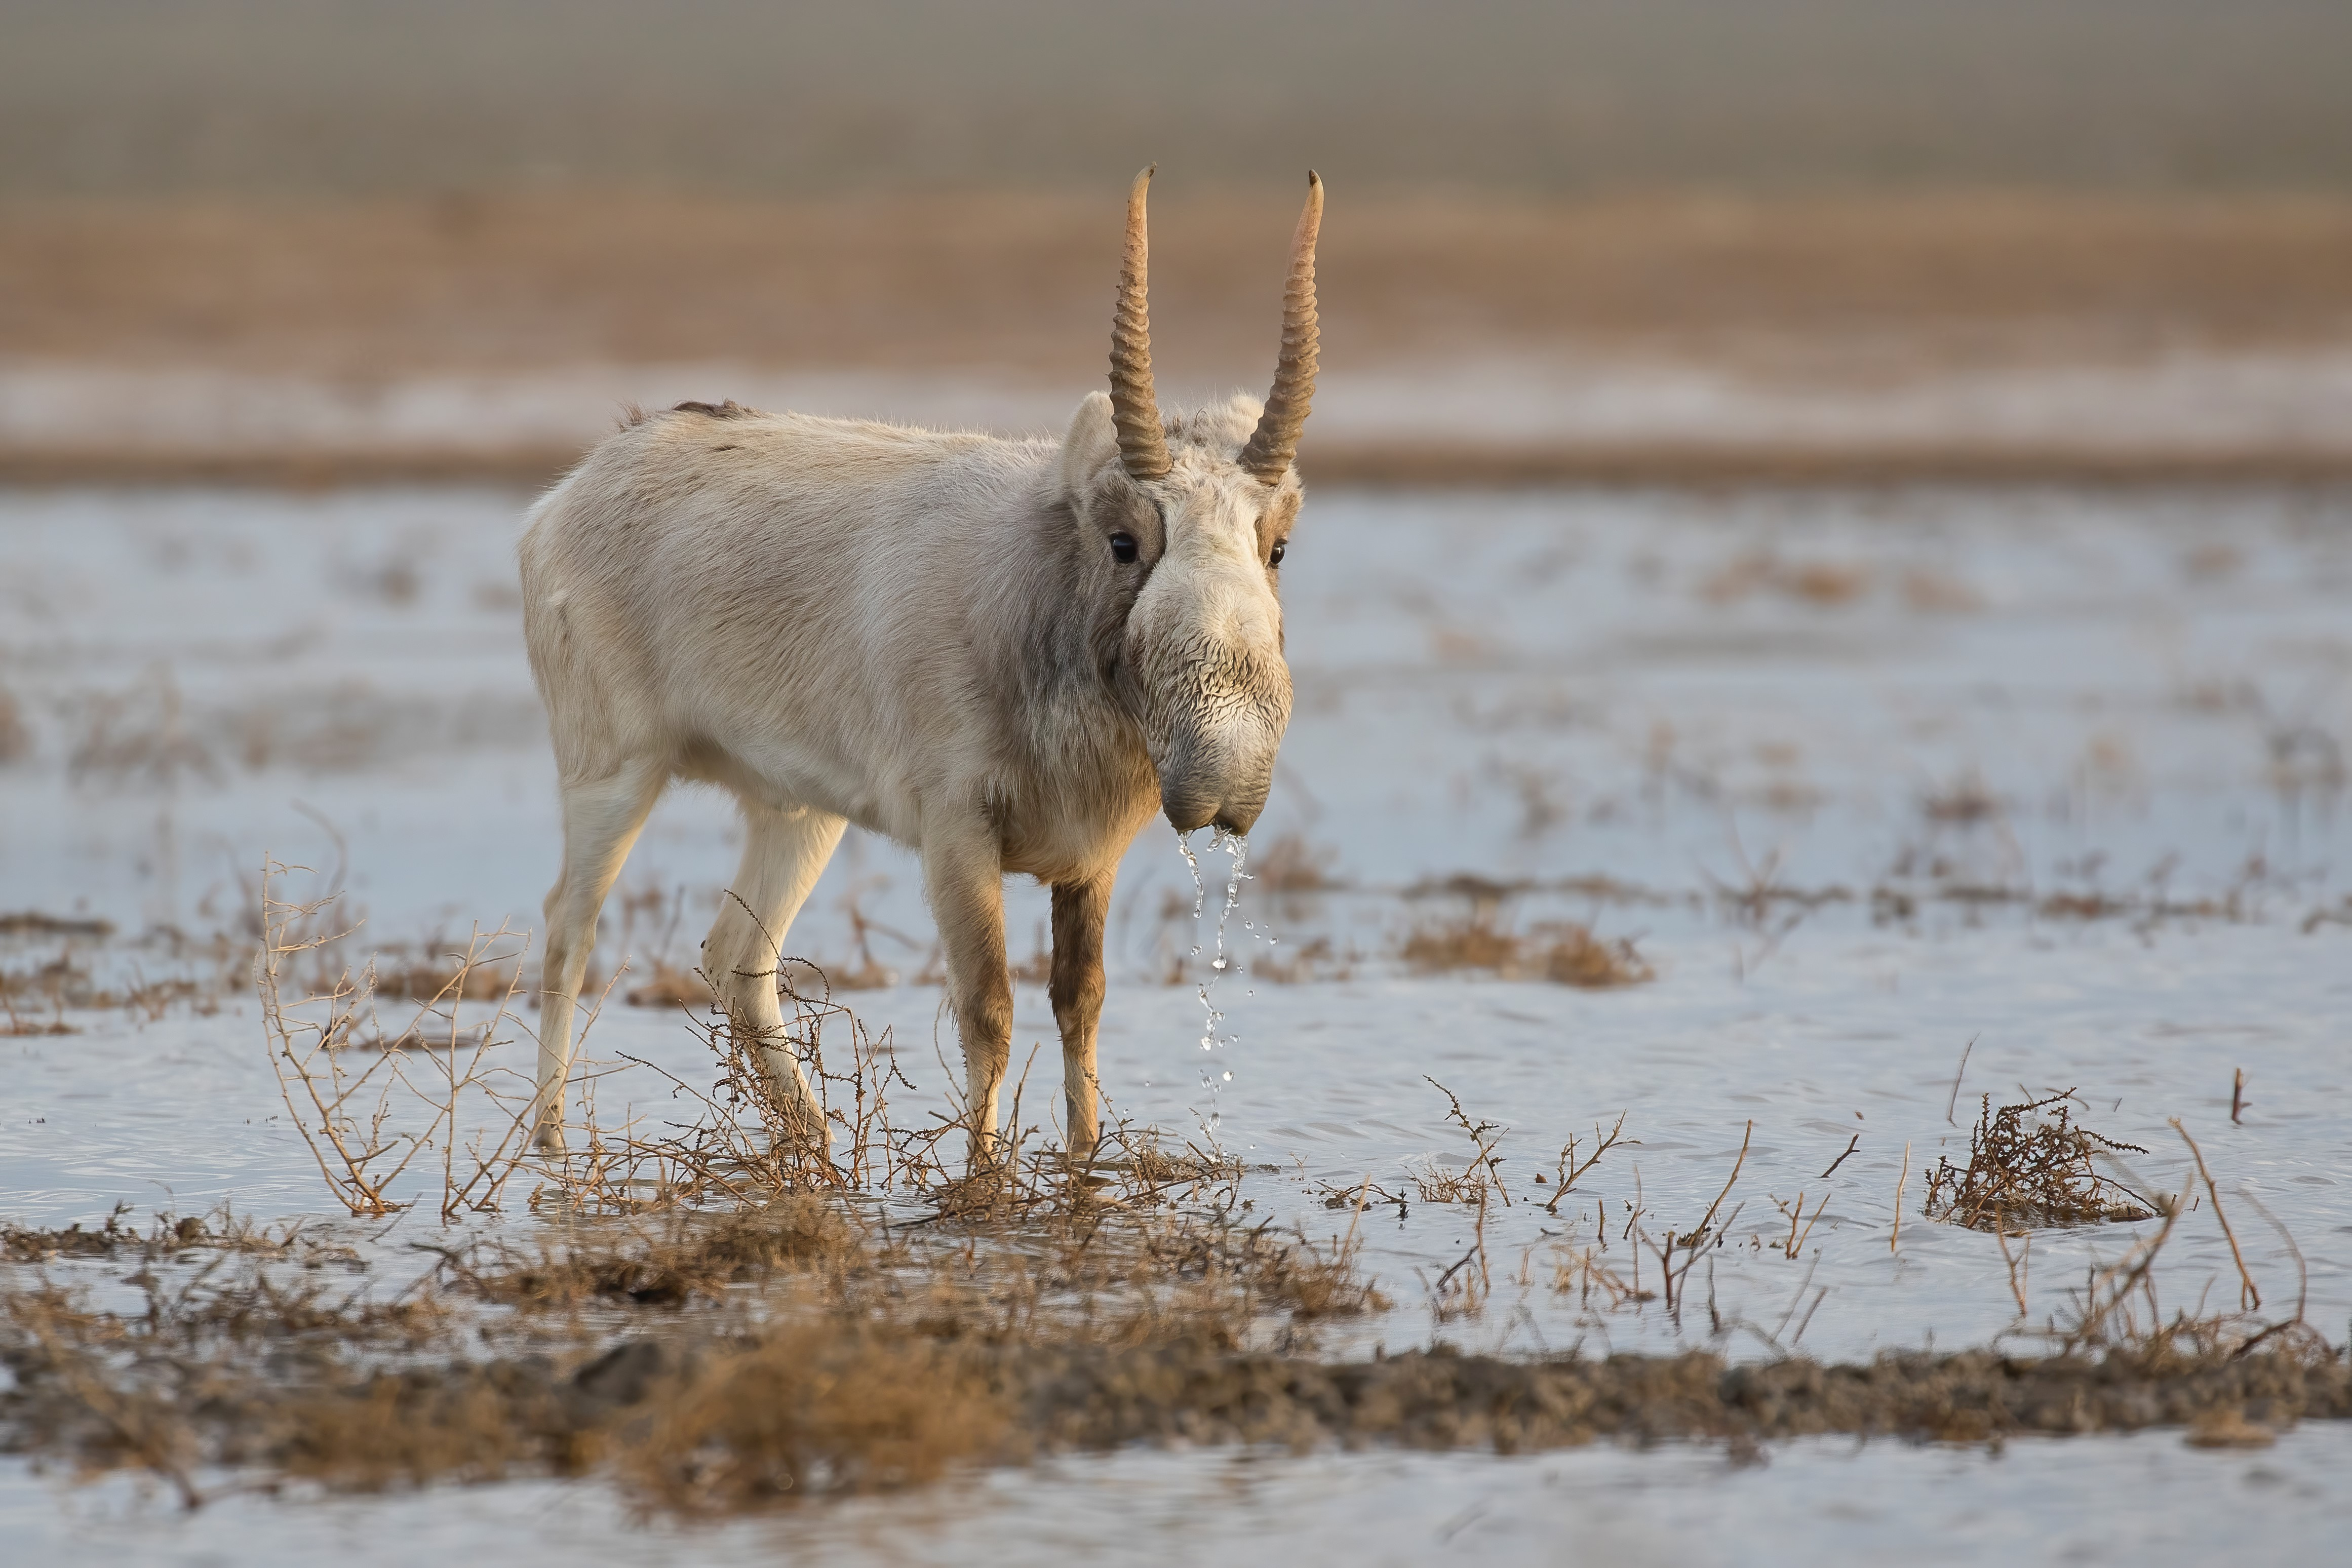saiga: (511, 171, 1337, 1186)
